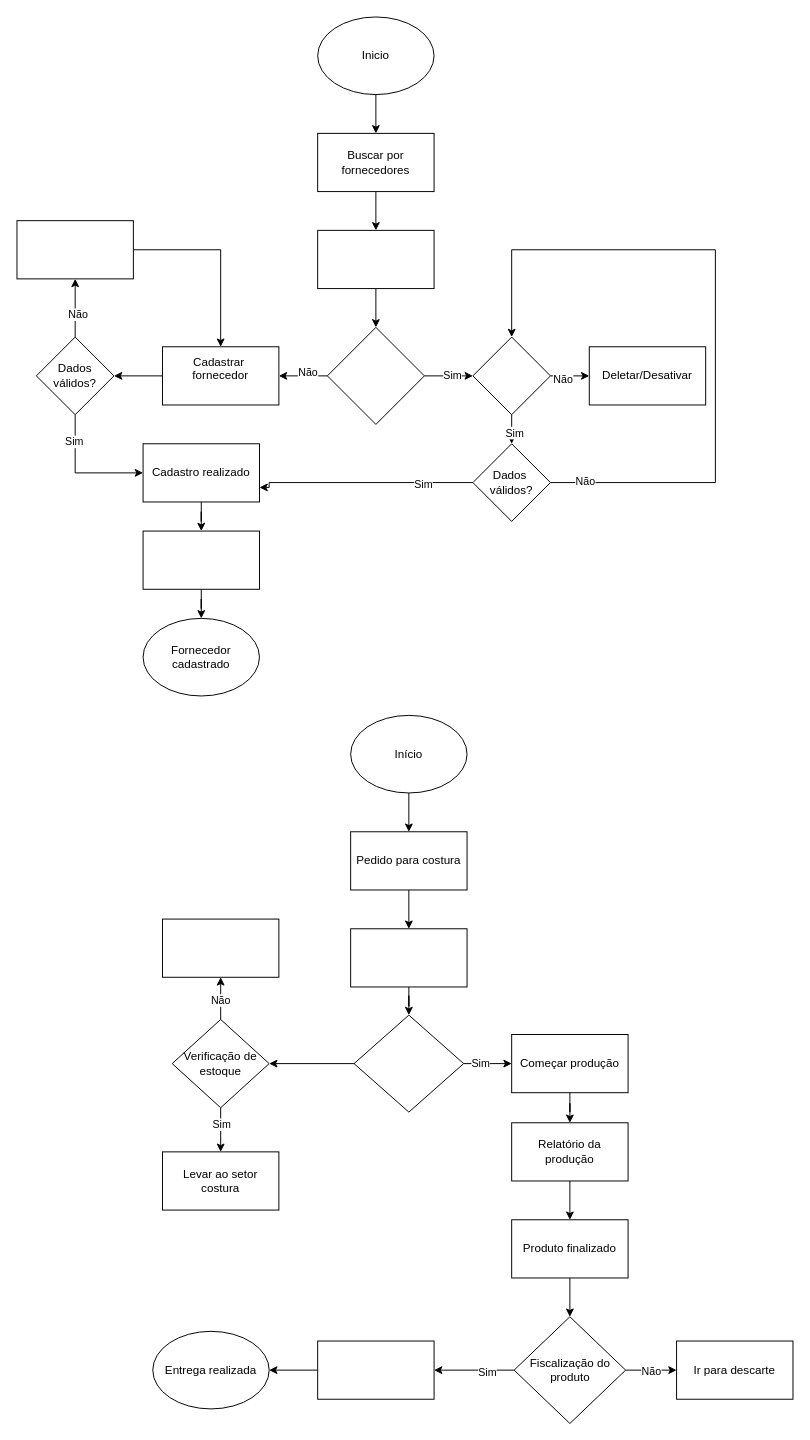
This 810x1440 diagram has some shape labels left out. The shapes that lost their labels are listed below. From the top down, each one's centre as x and y in pixels, then its label:
(x=74, y=249): Mostrar erro
(x=375, y=259): Lista de fornecedores
(x=375, y=375): Fornecedor cadastrado?
(x=511, y=375): Atualizar cadastro?
(x=200, y=559): Leitura da página
(x=220, y=947): Fazer pedido
(x=408, y=957): Análise de produtos nescessarios
(x=408, y=1063): Quantidade de produtos nescessários
(x=375, y=1369): Sair para entrega
